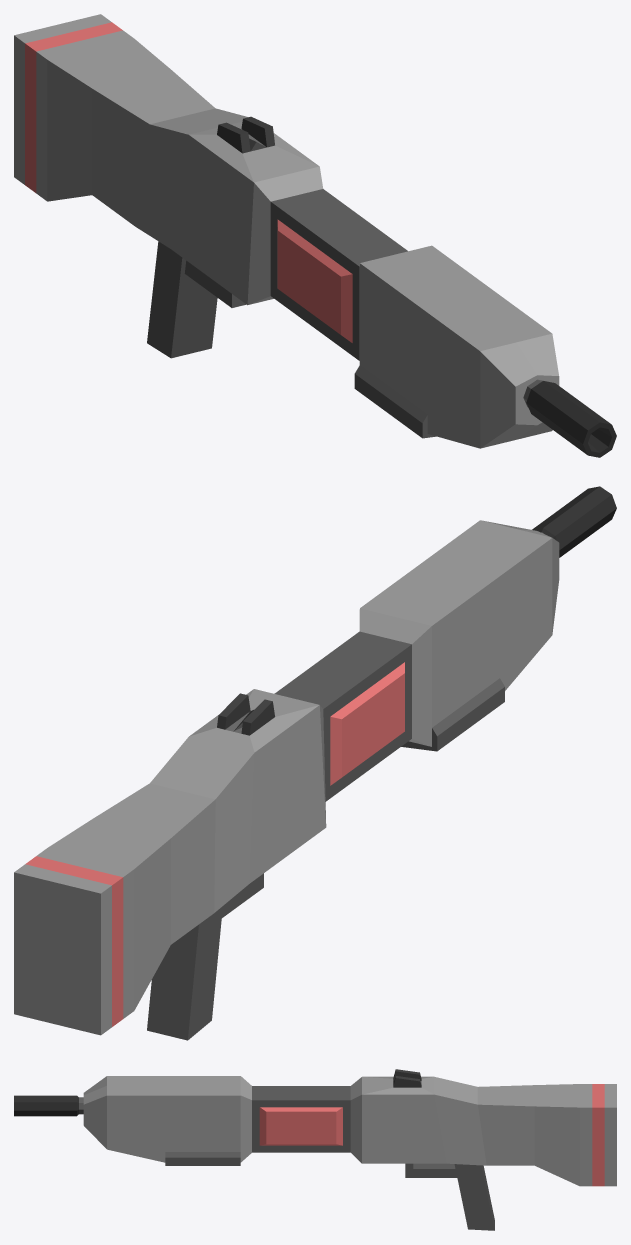
Rendered from Shotgun.fbx.
3 renders of one model, top to bottom at view 1: azimuth 30°, elevation 25°; view 2: azimuth 150°, elevation 25°; view 3: azimuth 270°, elevation 25°, orthographic. The views are drawn at different scales.
Parts seen in each view (by area): view 1: Cube.004; view 2: Cube.004; view 3: Cube.004.
Part boxes in pixels (x1,y1,x2,y2): Cube.004: (14, 14, 616, 457); Cube.004: (14, 486, 616, 1040); Cube.004: (14, 1069, 616, 1230).
Bounding box in the file's own units: 7.84 × 23.53 × 84.77.
